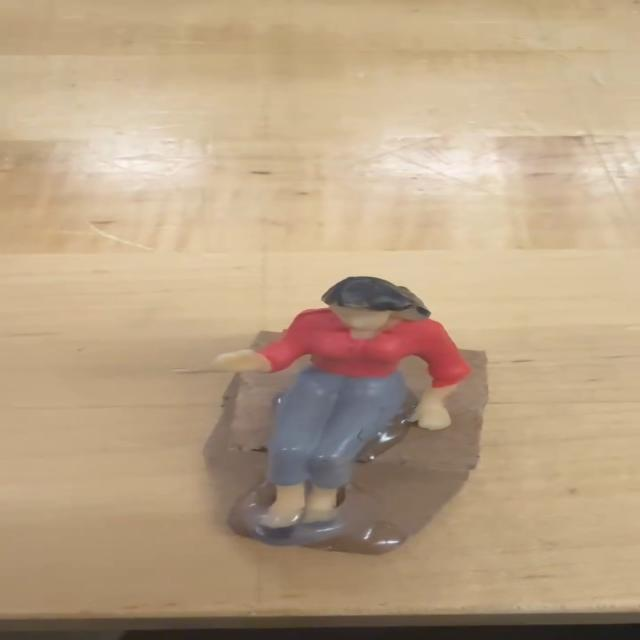Authorized: (135, 265, 505, 579)
